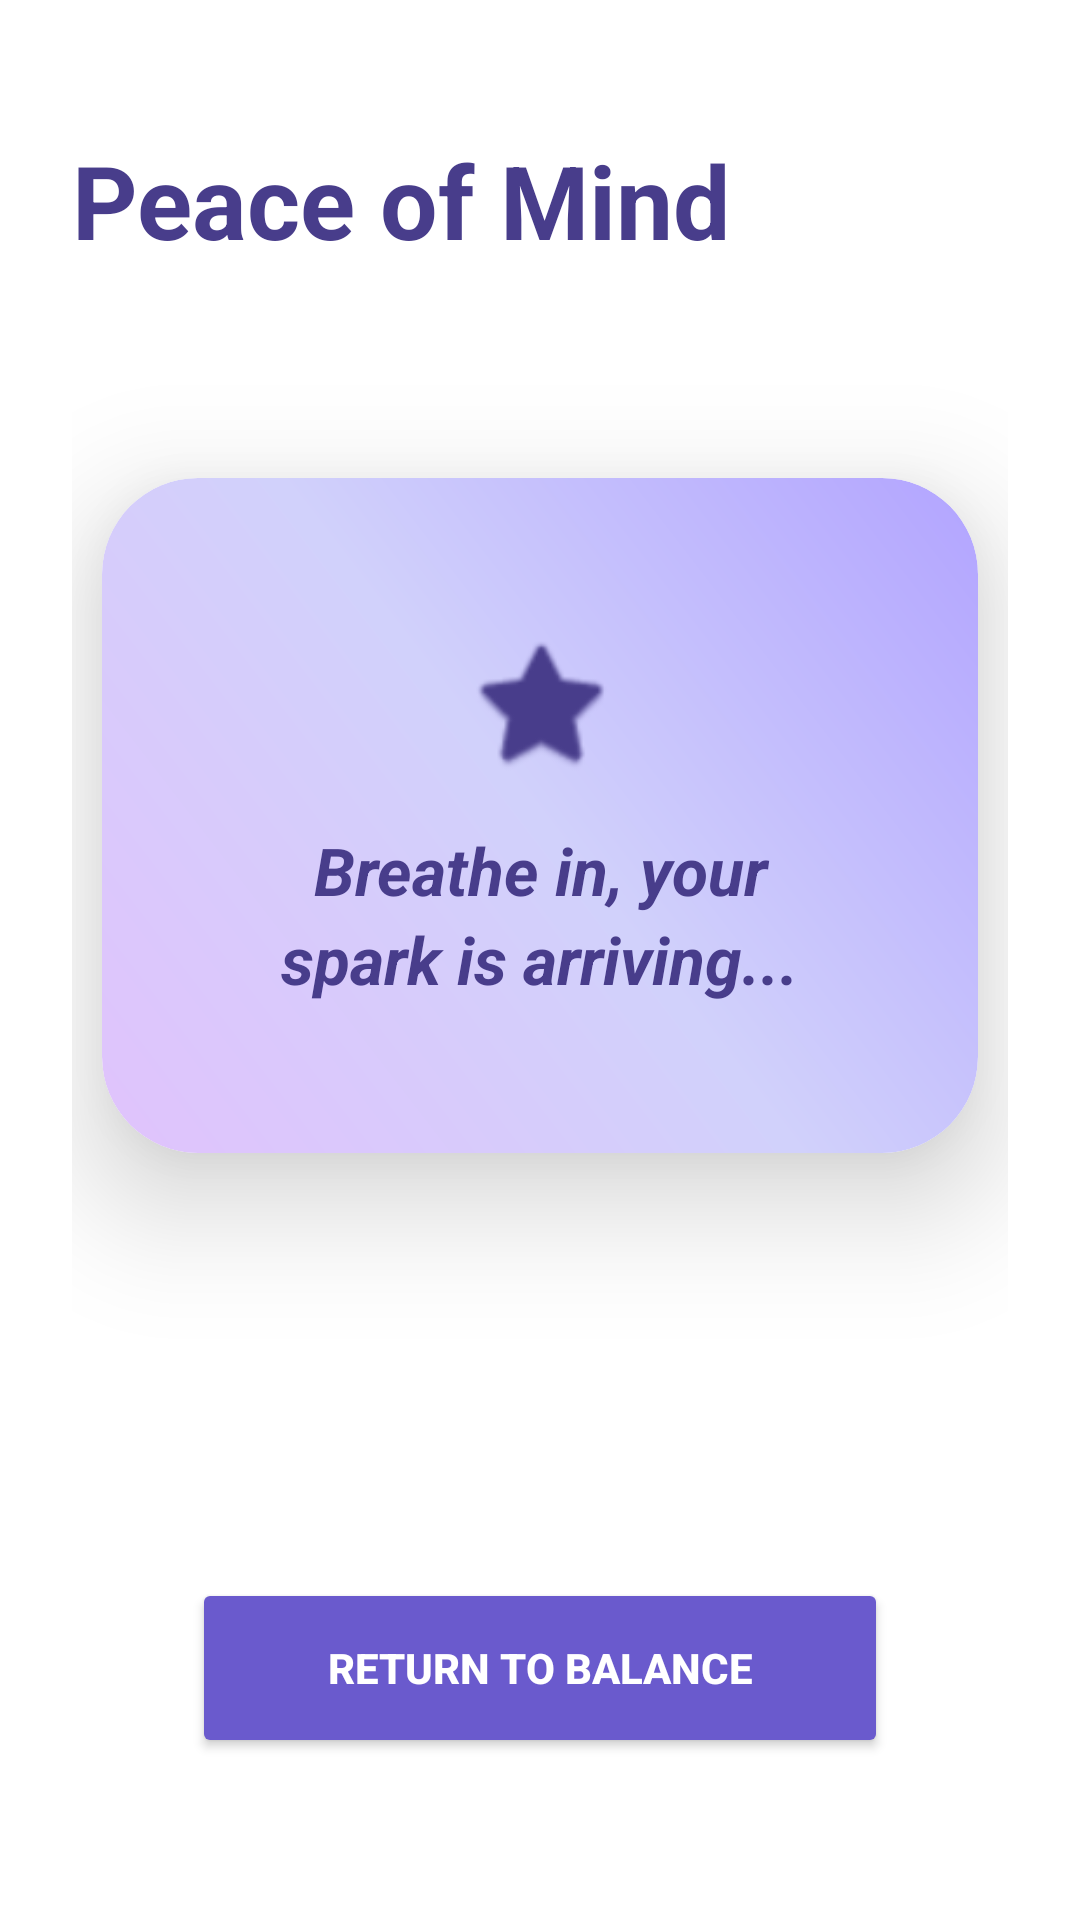

Icon bounding boxes for this 1080x1920 phone screenshot, format (x1,y1,x2,y2):
star on: (479,644,604,764)
